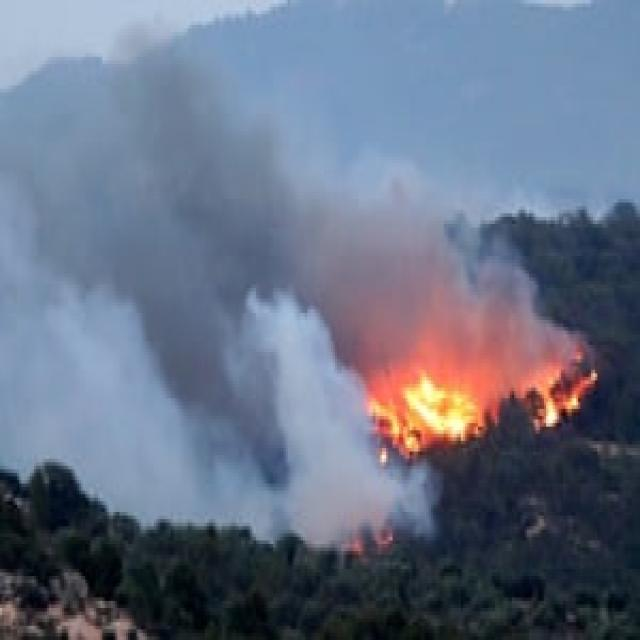Fire: (369, 372, 478, 454)
Smoke: (4, 96, 382, 542), (386, 215, 534, 367)
